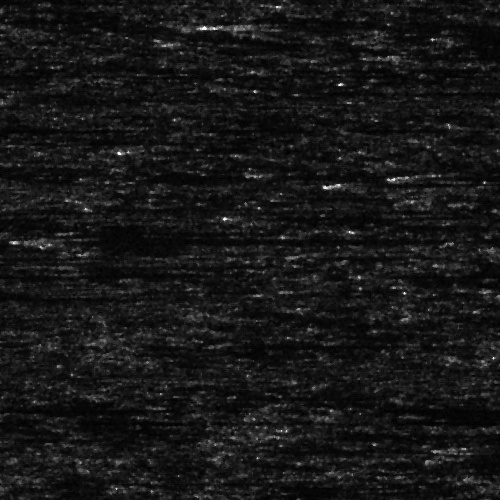object: (10, 231, 83, 244), (318, 180, 381, 187), (0, 92, 29, 101), (279, 425, 290, 442), (318, 498, 371, 500)
shadow: (47, 231, 383, 244), (0, 92, 325, 101), (285, 425, 457, 442), (350, 180, 441, 187), (345, 498, 500, 500), (0, 171, 115, 172)
